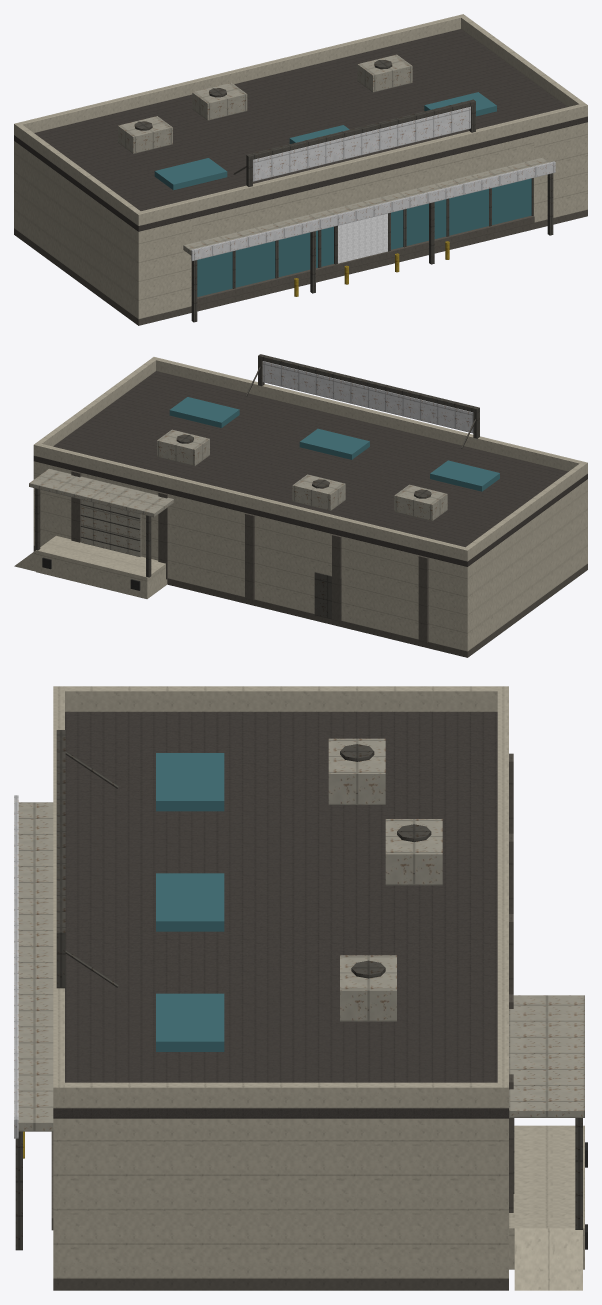
The picture shows the model from 3 angles, top to bottom: view 1: azimuth 30°, elevation 25°; view 2: azimuth 150°, elevation 25°; view 3: azimuth 270°, elevation 25°; orthographic projection. The views are drawn at different scales.
Visible parts, largest first — view 1: site_supermarket_restored; view 2: site_supermarket_restored; view 3: site_supermarket_restored.
Boxes of the visible parts, x1=… form: site_supermarket_restored: x1=14, y1=14, x2=587, y2=325; site_supermarket_restored: x1=14, y1=354, x2=587, y2=657; site_supermarket_restored: x1=14, y1=686, x2=587, y2=1290.
Size of the model in its own units: 25 by 7.52 by 15.12.
Materials: 10 (10 with a texture image).
